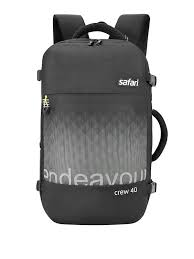backpack: (35, 13, 168, 225)
